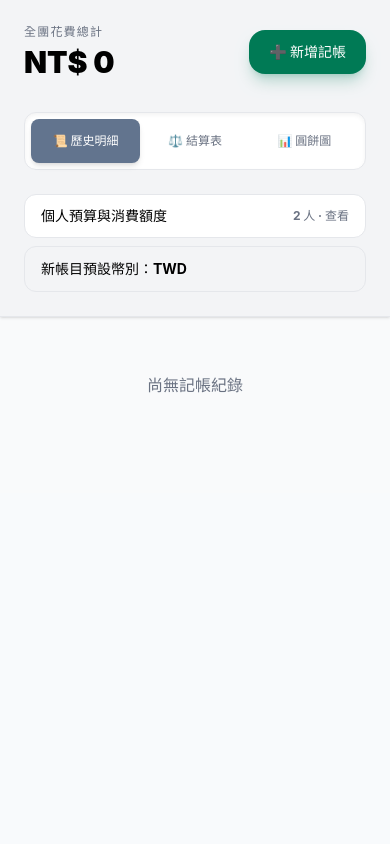
Test: ExpenseSection › labels group and personal distribution and explains allocation only once
Click the button with test id "expense-chart-view-button" at [304, 141], box [250, 119, 359, 163]
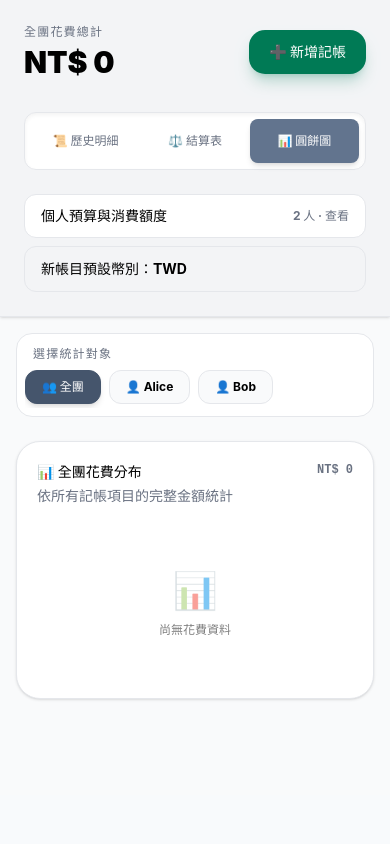
Now the heading "📊 全團花費分布" is shown, box [37, 463, 142, 480]
Now the text "依所有記帳項目的完整金額統計" is shown, box [37, 486, 233, 506]
Click the button "👤 Alice" at [150, 387], box [109, 370, 190, 404]
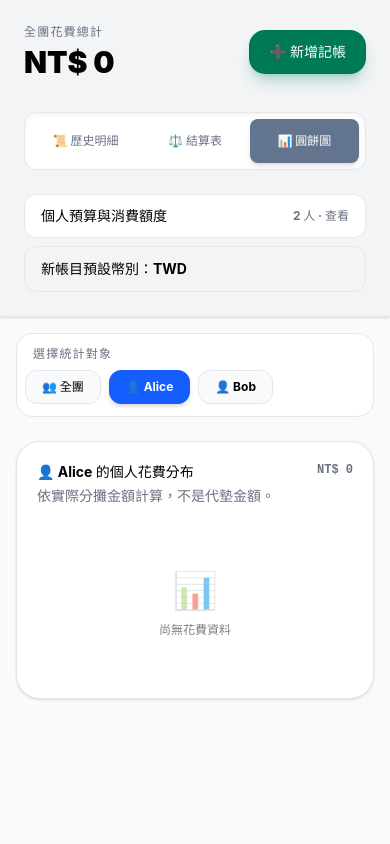
Now the text "依實際分攤金額計算，不是代墊金額。" is shown once, box [37, 486, 275, 506]
Now the heading "👤 Alice 的個人花費分布" is shown, box [37, 463, 194, 480]
